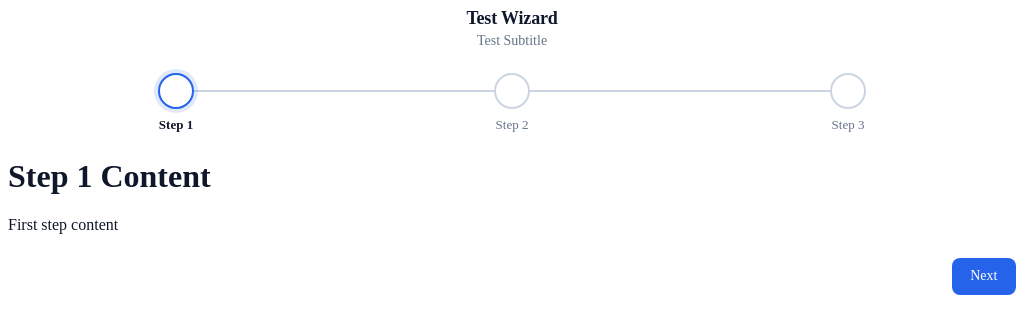
Test case: FormWizard › navigates to next step when Next button is clicked
Click the button "Next" at (984, 276), box [952,258,1016,295]
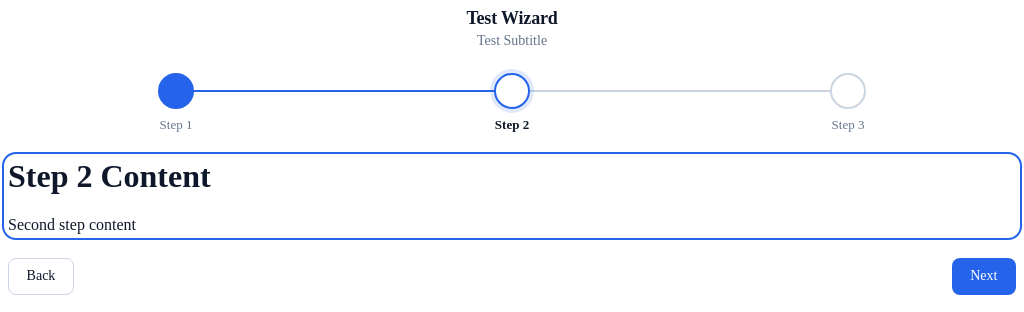
Now the heading "Step 2 Content" is shown, box [8,158,211,194]
